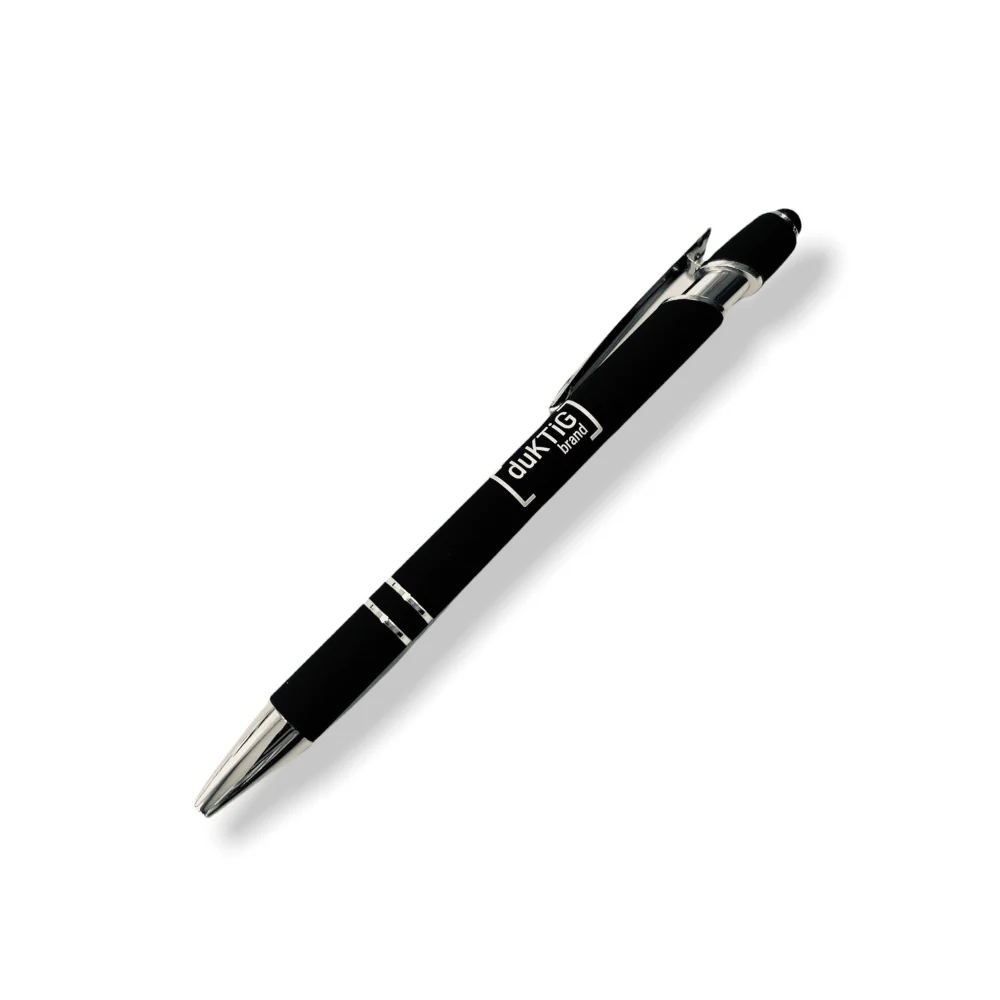pen: (128, 196, 837, 865)
